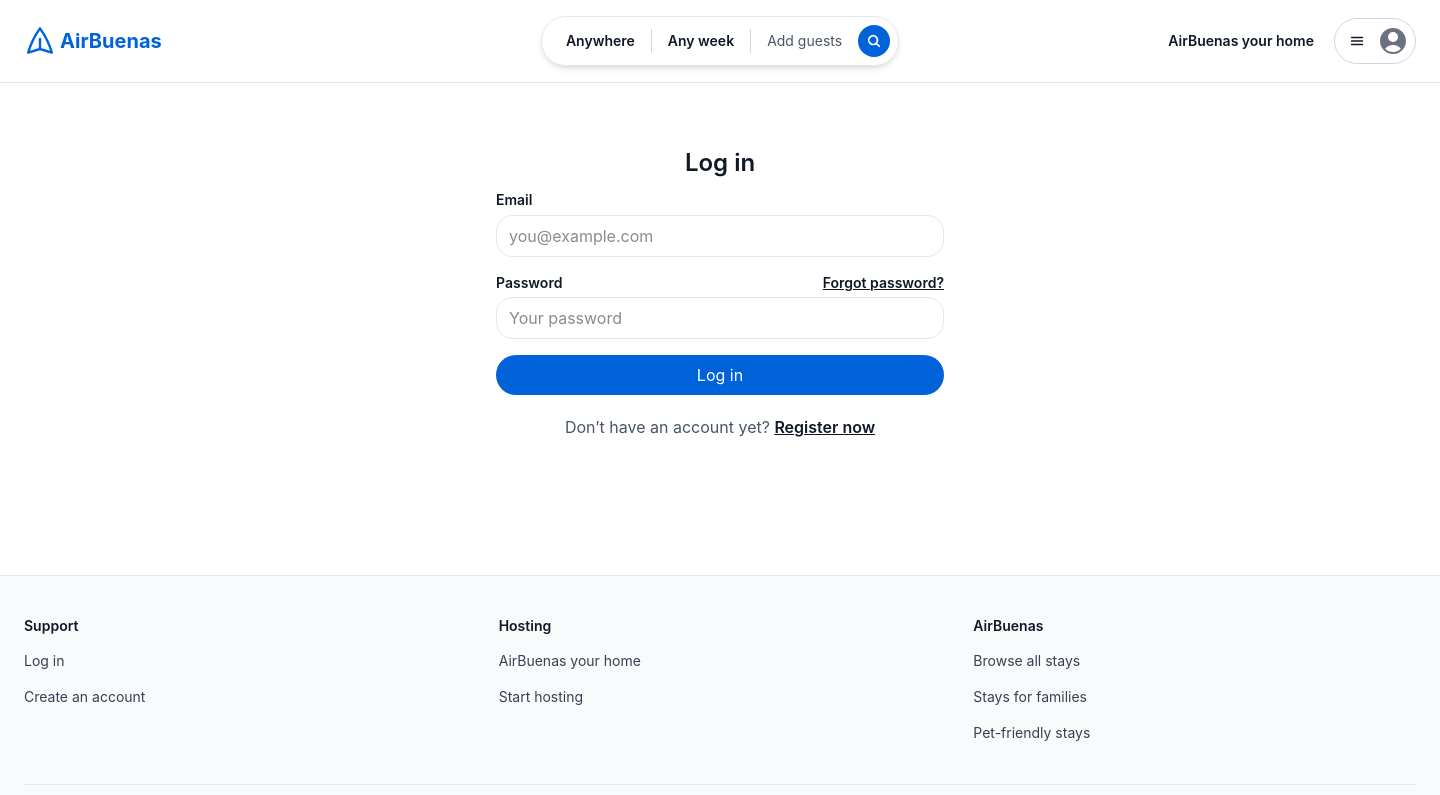
Test: password reset › links from the login page, carrying the email typed there
Type "amina@example.com" into the field labelled "Email" at (720, 236), box [496, 215, 944, 257]
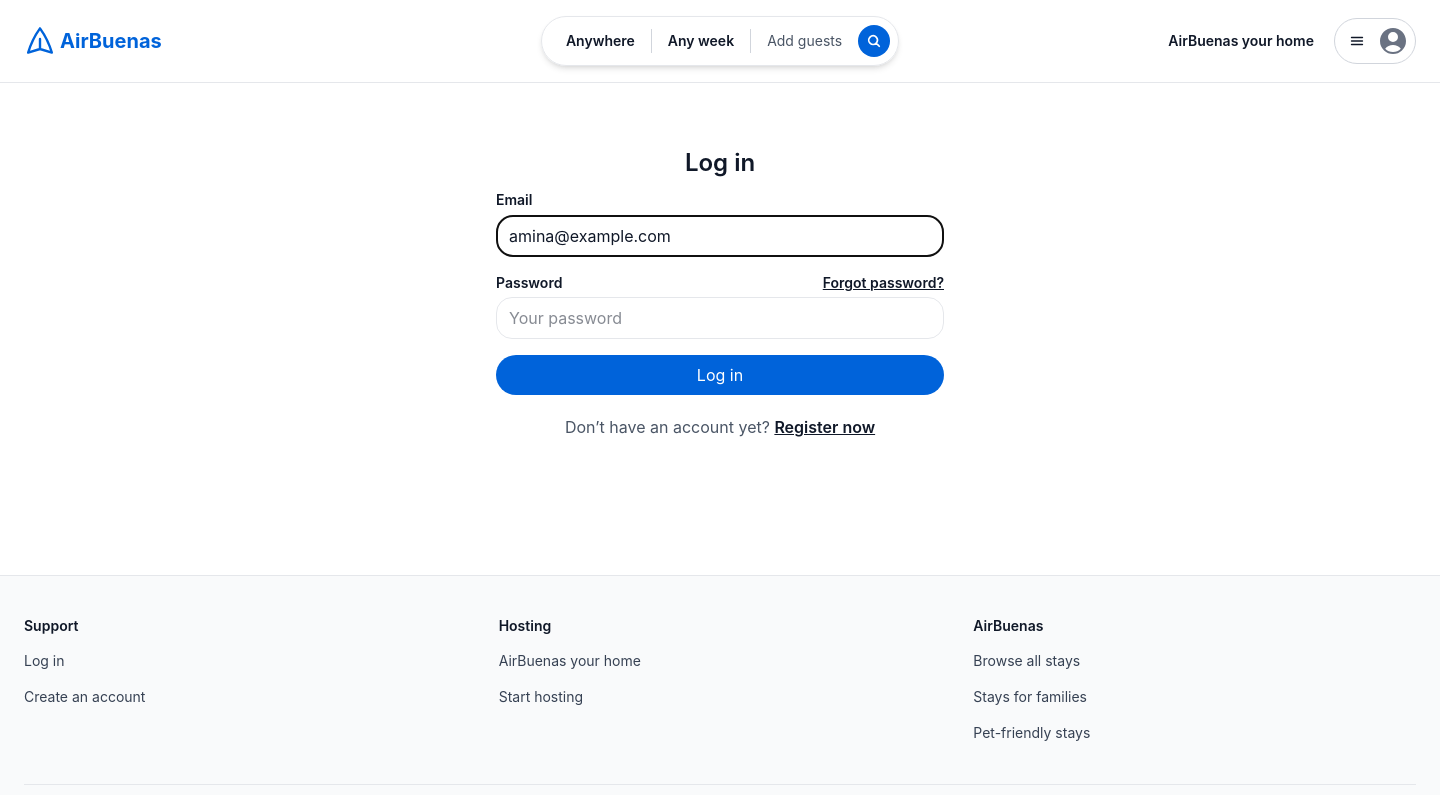
Click the link "Forgot password?" at (883, 283), box [823, 273, 944, 293]
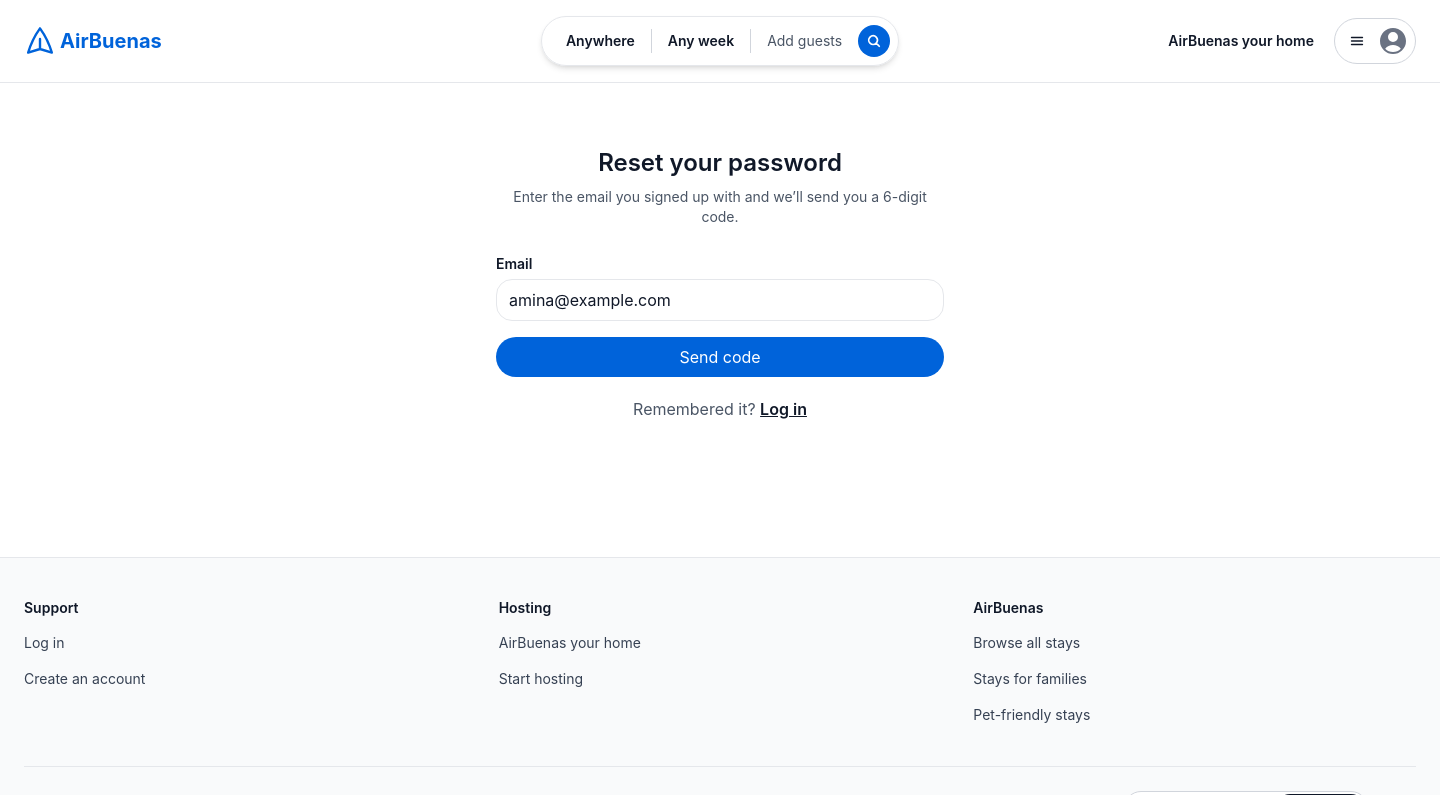
Expected: the heading "Reset your password" is shown, [598, 148, 842, 177]
Expected: the field labelled "Email" holds "amina@example.com", [496, 279, 944, 321]
